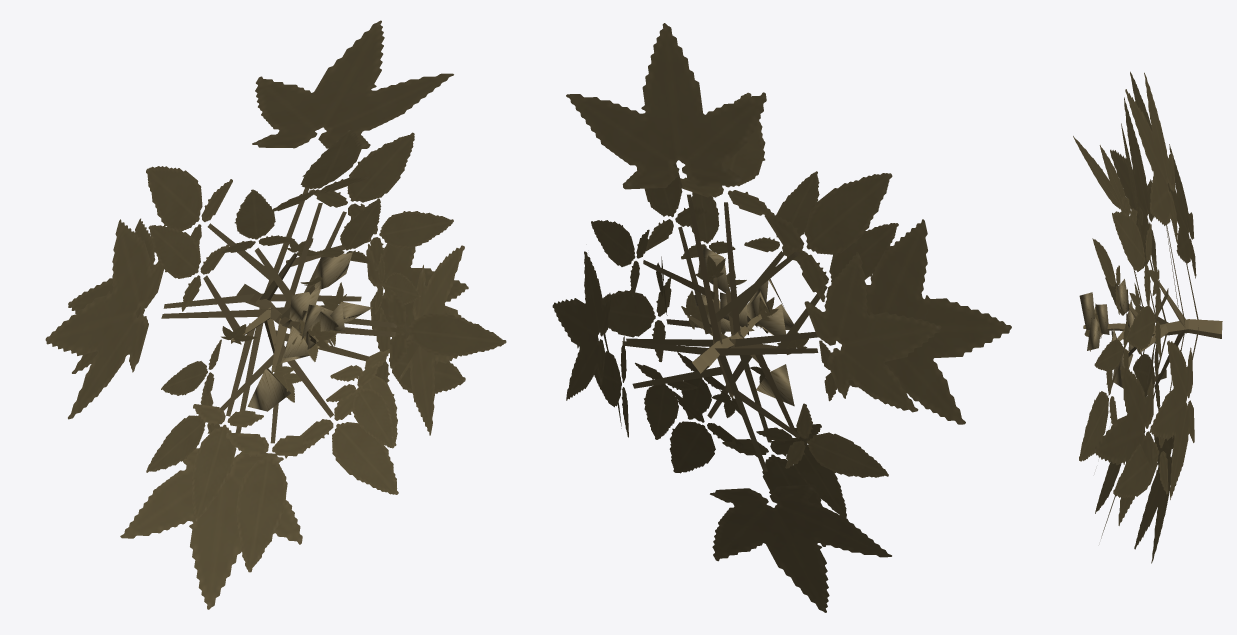
Rendered from p_male_auto_preflower_c4_cards.obj.
The picture shows the model from 3 angles, left to right: view 1: azimuth 30°, elevation 25°; view 2: azimuth 150°, elevation 25°; view 3: azimuth 270°, elevation 25°; orthographic projection. The views are drawn at different scales.
Bounding box in the file's own units: 1.04 × 1.25 × 0.29.
1 material, 1 textured.
